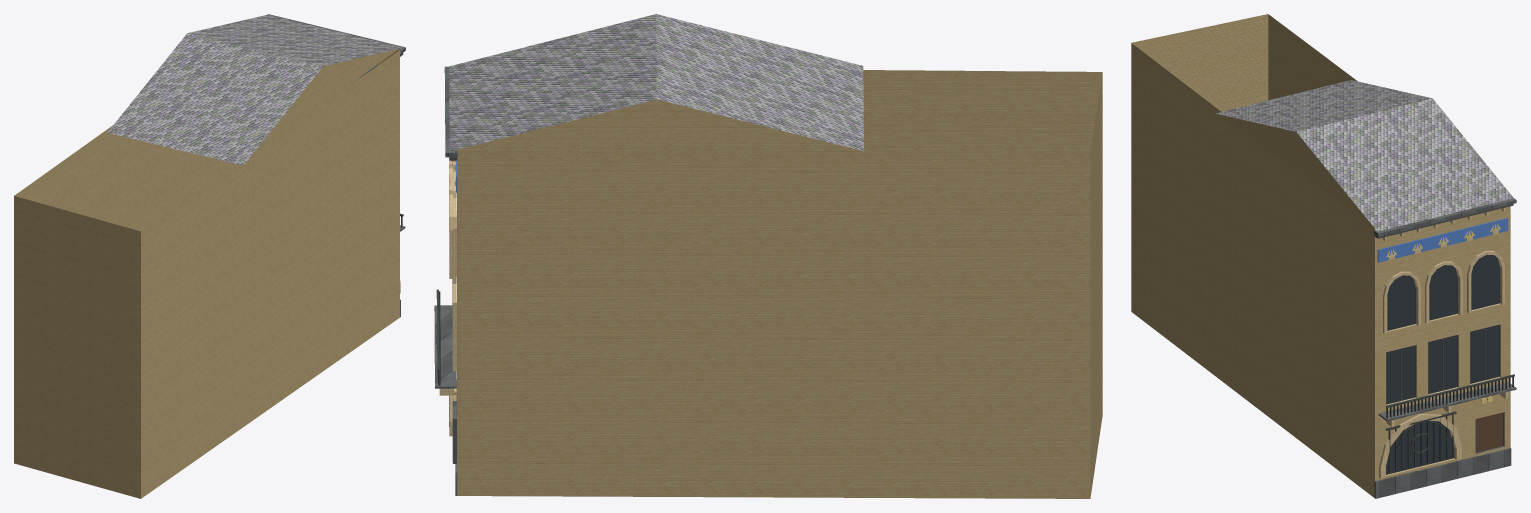
3 renders of one model, left to right at view 1: azimuth 30°, elevation 25°; view 2: azimuth 150°, elevation 25°; view 3: azimuth 270°, elevation 25°, orthographic. The views are drawn at different scales.
Visible parts, largest first — view 1: bldg_501637650_landmark; view 2: bldg_501637650_landmark; view 3: bldg_501637650_landmark.
Part boxes in pixels (<box>): bldg_501637650_landmark: <box>14,14,405,498</box>; bldg_501637650_landmark: <box>434,14,1102,498</box>; bldg_501637650_landmark: <box>1131,14,1516,498</box>.
Bounding box in the file's own units: 23.26 × 15.2 × 17.14.
10 materials, 4 textured.
